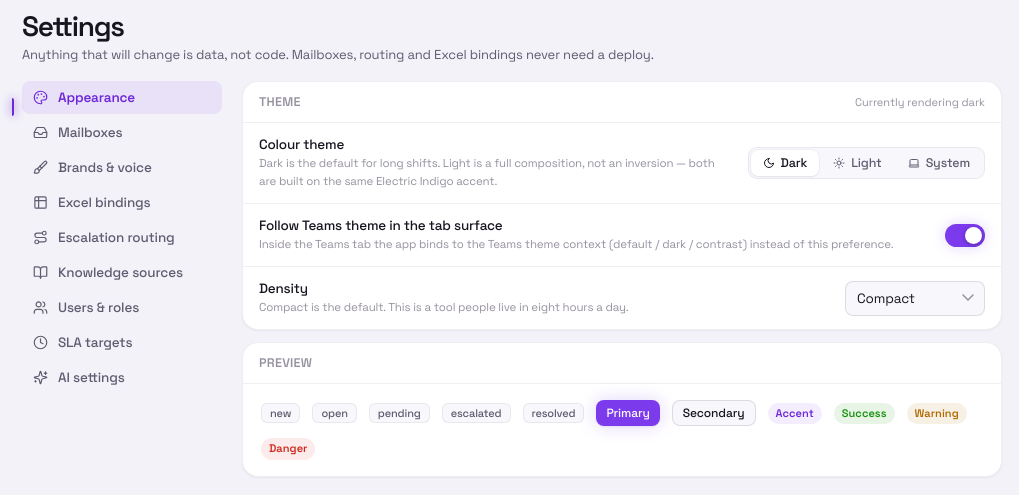
Settings screen (AD-106) › Demo mode behavior › shows demo hint in Routing section
What coordinates should you click on to do the following:
click the button "Escalation routing"
I would click on:
 (122, 238)
Its box is [22,221,222,254].
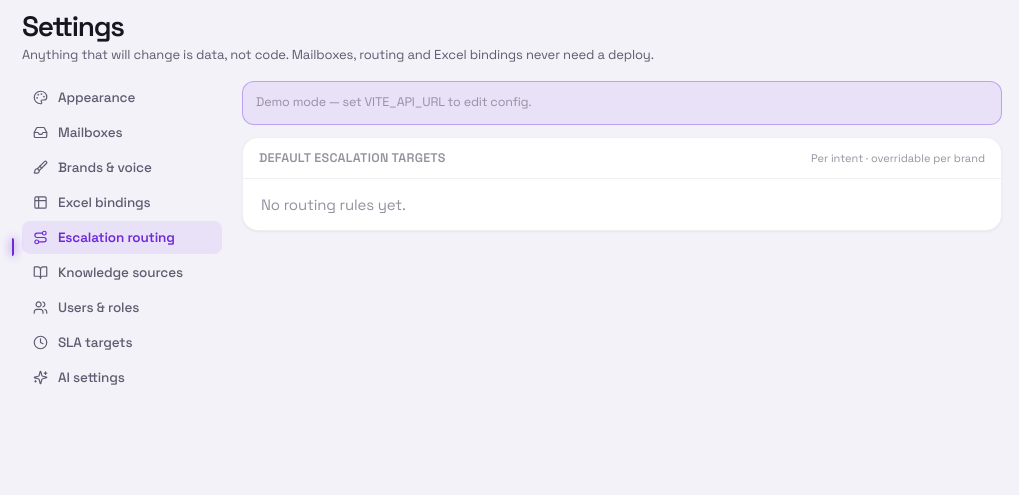
Check: the text "Demo mode — set VITE_API_URL to edit config." is shown, box [256,93,532,113]
